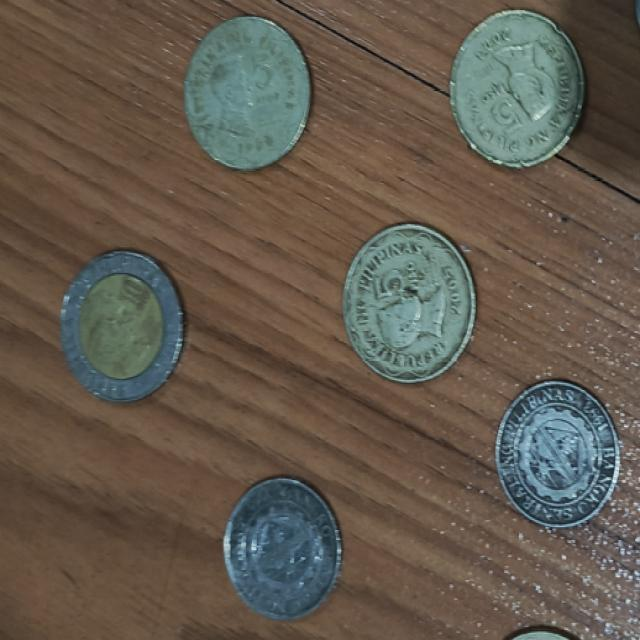10_peso: (61, 256, 178, 401)
1_peso: (497, 381, 619, 526), (225, 479, 340, 619)
5_peso: (451, 10, 583, 166), (343, 224, 473, 381), (184, 17, 309, 167)
